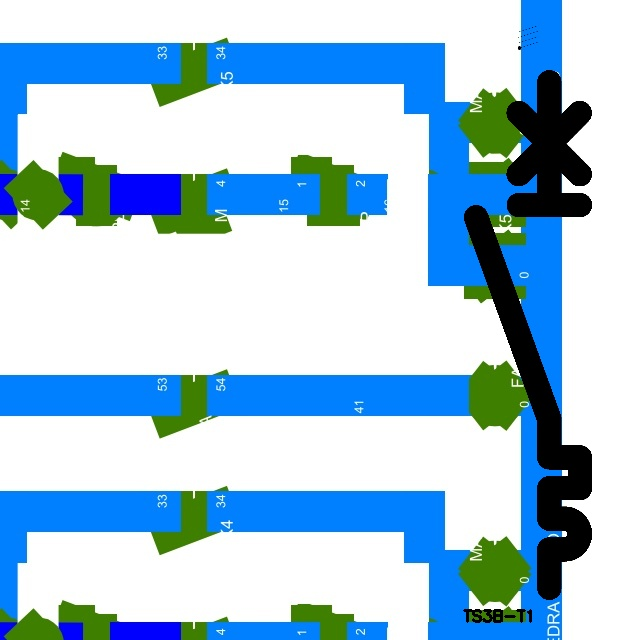interruptor_termomagnetico: (463, 69, 593, 600)
